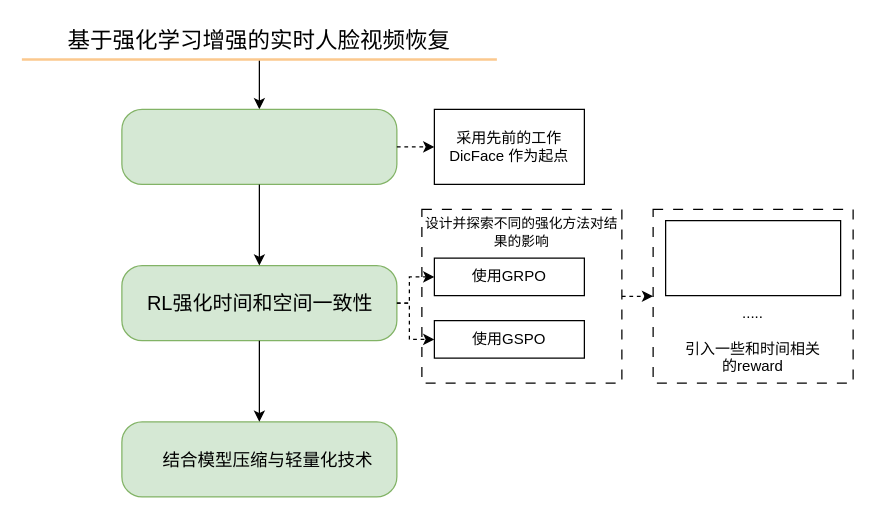
Image size: 876x519. Some labels were removed from this diagram. The box of each missing label's shape, as (x1, y1, x2, y2) in pixels:
基于向量量化的潜空间建模方法: (121, 108, 397, 184)
引入 TLME (Temporal Landmark Motion Error)作为reward: (664, 219, 841, 296)
